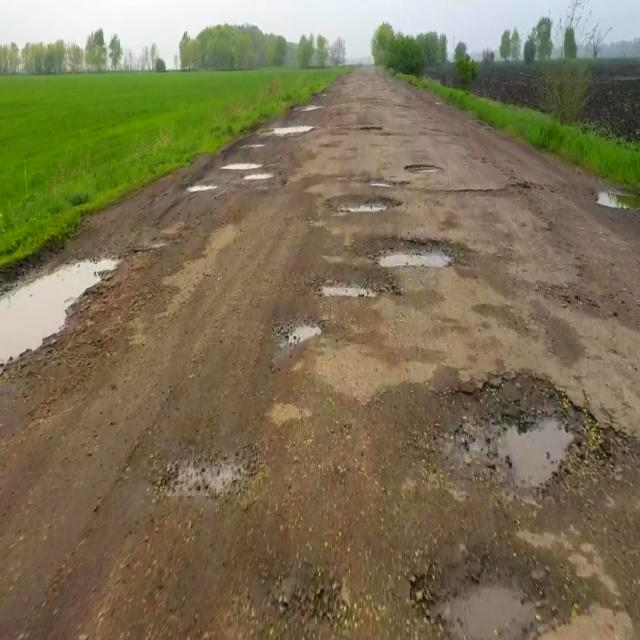Pothole: (0, 229, 138, 429), (405, 412, 614, 486), (376, 568, 582, 628), (174, 152, 282, 214), (352, 228, 457, 266), (552, 170, 640, 214), (300, 270, 390, 306), (279, 305, 330, 361), (256, 112, 332, 144), (318, 188, 398, 213), (392, 156, 443, 178), (290, 100, 326, 121)
